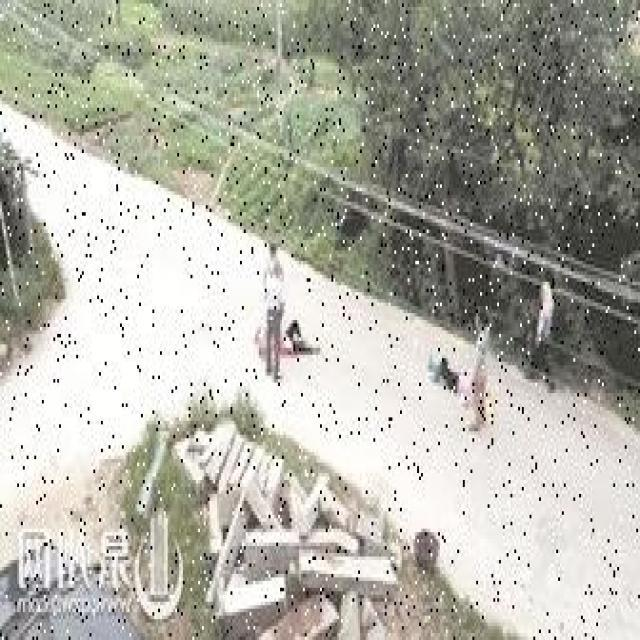fall: (424, 351, 496, 386), (253, 316, 320, 352)
